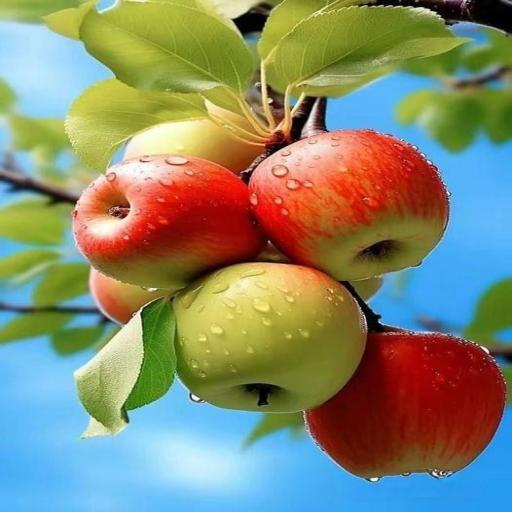apple: (305, 332, 506, 480), (250, 130, 448, 280), (175, 263, 365, 412), (74, 156, 264, 290)
